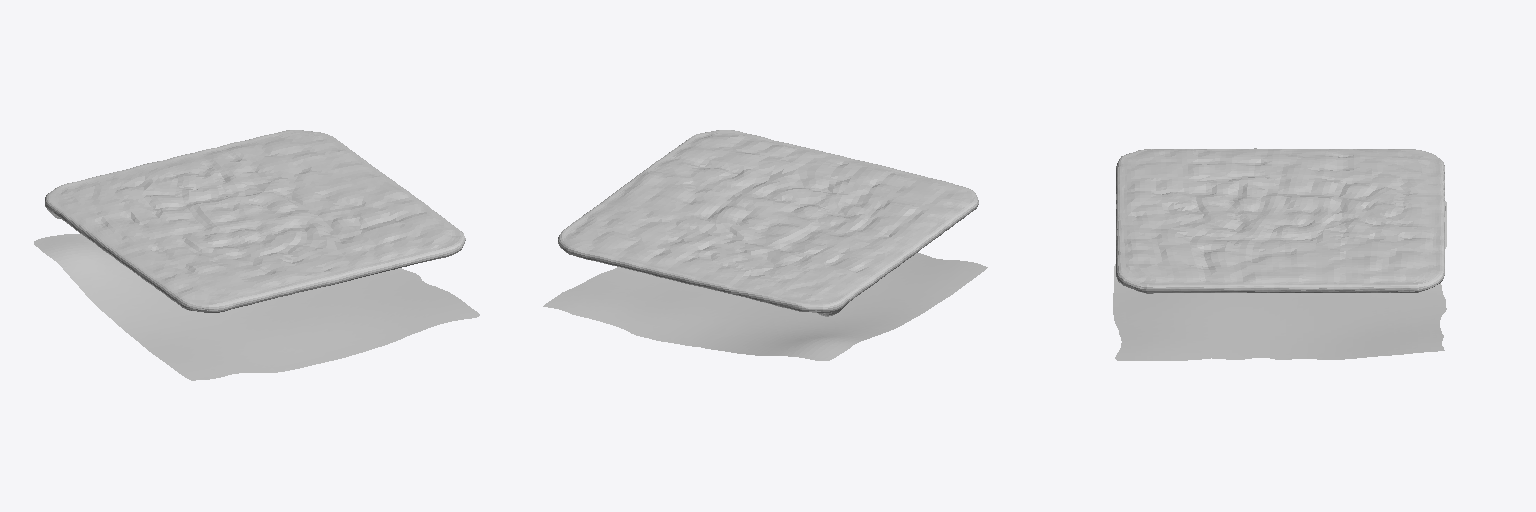
File: floor_cobblestone.obj
The picture shows the model from 3 angles: view 1: azimuth 30°, elevation 25°; view 2: azimuth 150°, elevation 25°; view 3: azimuth 270°, elevation 25°; orthographic projection.
Parts seen in each view (by area): view 1: mesh; view 2: mesh; view 3: mesh.
Part boxes in pixels (x1,y1,x2,y2): mesh: (34, 130, 479, 380); mesh: (543, 130, 987, 360); mesh: (1113, 148, 1446, 360).
Size of the model in its own units: 0.999 by 0.2775 by 0.9958.